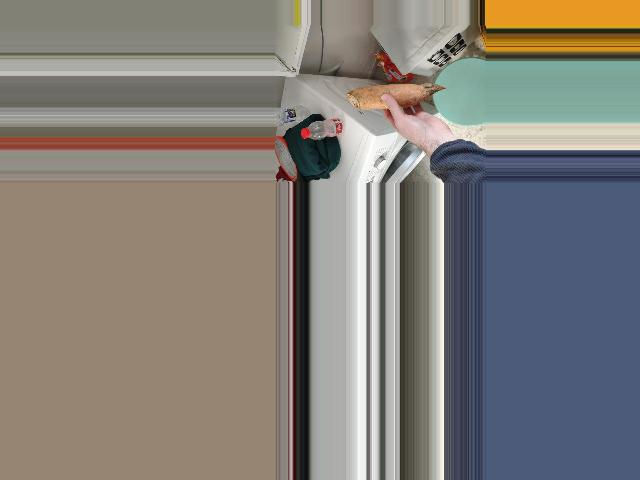sweet_potato: (356, 84, 443, 115)
